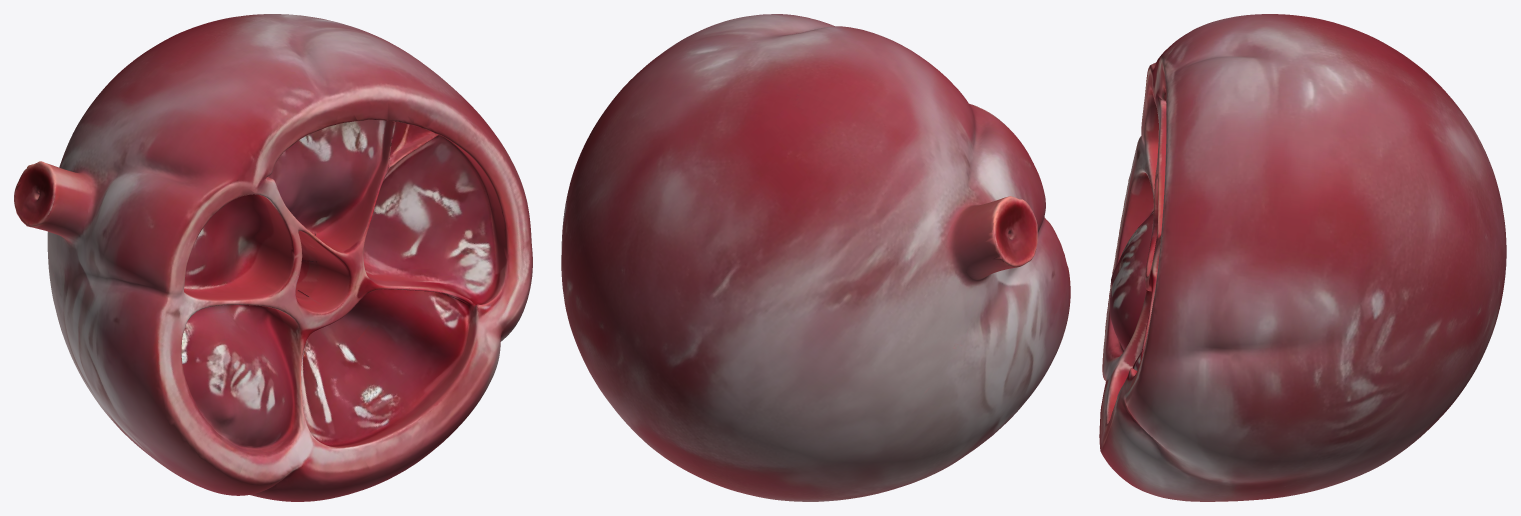
File: vet_v2_path_tumor.glb
3 renders of one model, left to right at view 1: azimuth 30°, elevation 25°; view 2: azimuth 150°, elevation 25°; view 3: azimuth 270°, elevation 25°, orthographic. The views are drawn at different scales.
Parts seen in each view (by area): view 1: model; view 2: model; view 3: model.
Part boxes in pixels (x1,y1,x2,y2): model: [14, 14, 532, 501]; model: [561, 14, 1070, 501]; model: [1099, 14, 1506, 501].
Size of the model in its own units: 1.9 by 1.69 by 1.44.
1 material, 1 textured.
